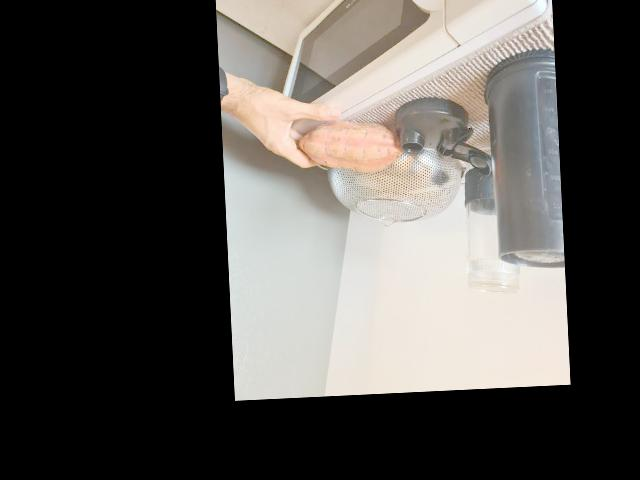sweet_potato: (293, 114, 408, 176)
